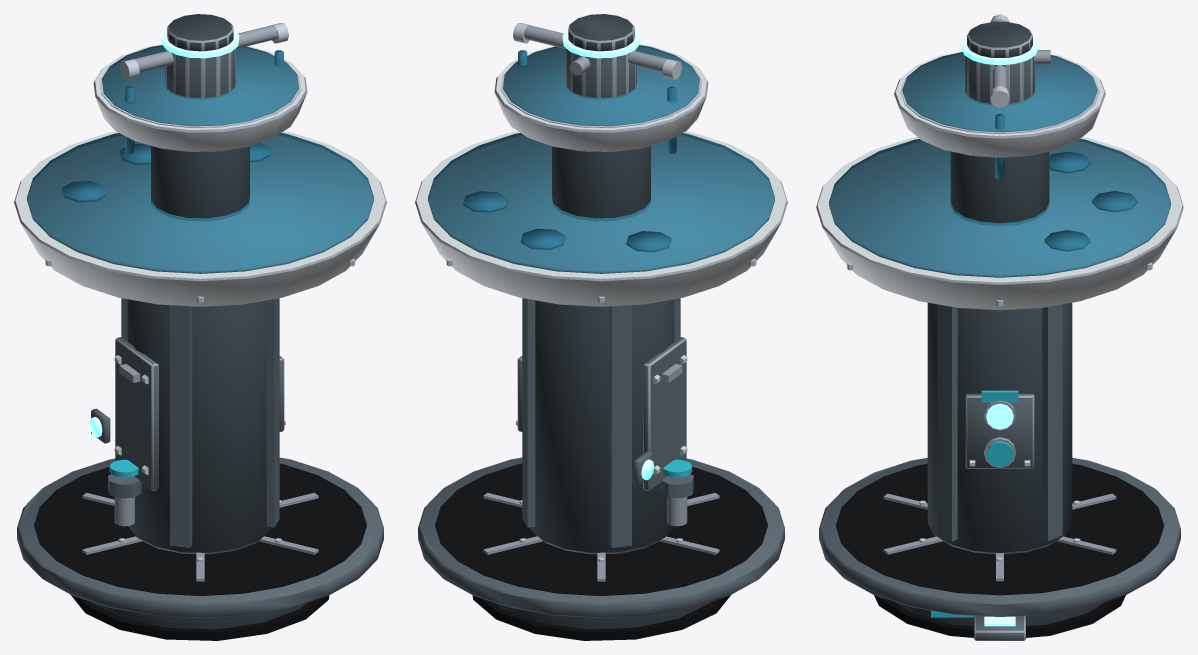
Rendered from prop_dispensador_agua.glb.
3 renders of one model, left to right at view 1: azimuth 30°, elevation 25°; view 2: azimuth 150°, elevation 25°; view 3: azimuth 270°, elevation 25°, orthographic.
Visible parts, largest first — view 1: lamina_agua, columna, plato_goteo, pila, bandeja, lamina_agua_superior, cuello, nervio_3, pila_superior, portezuela, goma_pie, nervio_4 (+10 smaller); view 2: lamina_agua, columna, plato_goteo, pila, bandeja, lamina_agua_superior, cuello, nervio_2, pila_superior, portezuela, goma_pie, nervio_1 (+12 smaller); view 3: lamina_agua, plato_goteo, columna, pila, bandeja, lamina_agua_superior, cuello, pila_superior, nervio_1, nervio_4, panel_botones, goma_pie (+11 smaller).
Boxes of the visible parts, x1,y1,x2,y2 form: lamina_agua: (27, 133, 373, 273); columna: (127, 299, 271, 554); plato_goteo: (34, 463, 366, 595); pila: (14, 131, 386, 306); bandeja: (17, 457, 383, 617); lamina_agua_superior: (102, 45, 298, 126); cuello: (151, 146, 249, 218); nervio_3: (170, 305, 192, 547); pila_superior: (93, 44, 307, 151); portezuela: (115, 337, 158, 490); goma_pie: (71, 595, 329, 640); nervio_4: (266, 298, 279, 527); lamina_agua: (428, 133, 774, 273); columna: (530, 299, 674, 554); plato_goteo: (435, 463, 767, 595); pila: (415, 131, 787, 306); bandeja: (418, 457, 784, 617); lamina_agua_superior: (503, 45, 699, 126); cuello: (552, 146, 650, 218); nervio_2: (609, 305, 631, 547); pila_superior: (494, 44, 708, 151); portezuela: (643, 337, 686, 490); goma_pie: (472, 595, 730, 640); nervio_1: (522, 298, 535, 527); lamina_agua: (829, 139, 1170, 277); plato_goteo: (835, 463, 1164, 595); columna: (927, 302, 1072, 554); pila: (816, 137, 1183, 310); bandeja: (819, 457, 1180, 616); lamina_agua_superior: (902, 52, 1097, 132); cuello: (950, 151, 1049, 223); pila_superior: (894, 51, 1105, 157); nervio_1: (1042, 304, 1062, 541); nervio_4: (937, 304, 957, 541); panel_botones: (965, 393, 1034, 468); goma_pie: (874, 595, 1125, 637).
Bounding box in the file's own units: 0.6403 × 1.06 × 0.6403.
